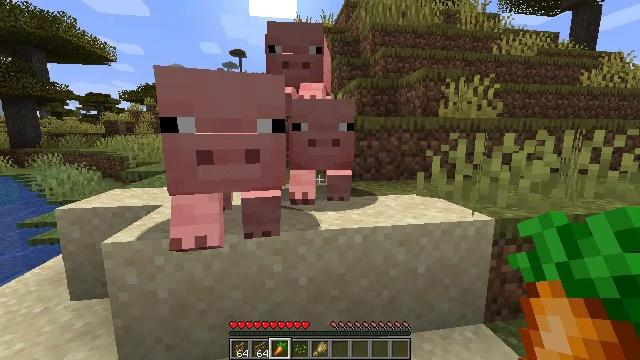pig: (156, 63, 279, 237), (289, 99, 351, 204), (268, 19, 329, 101)
